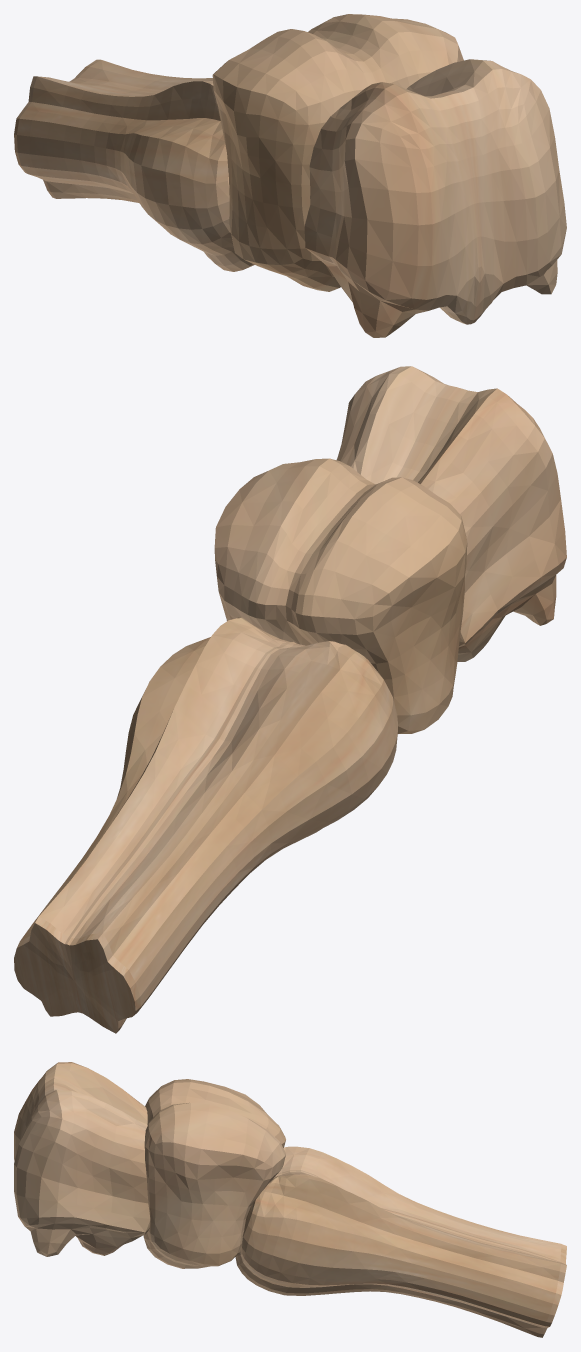
Rendered from brainstem.obj.
The picture shows the model from 3 angles, top to bottom: view 1: azimuth 30°, elevation 25°; view 2: azimuth 150°, elevation 25°; view 3: azimuth 270°, elevation 25°; orthographic projection. The views are drawn at different scales.
Bounding box in the file's own units: 31.24 × 49.96 × 99.92.
1 material, 1 textured.
